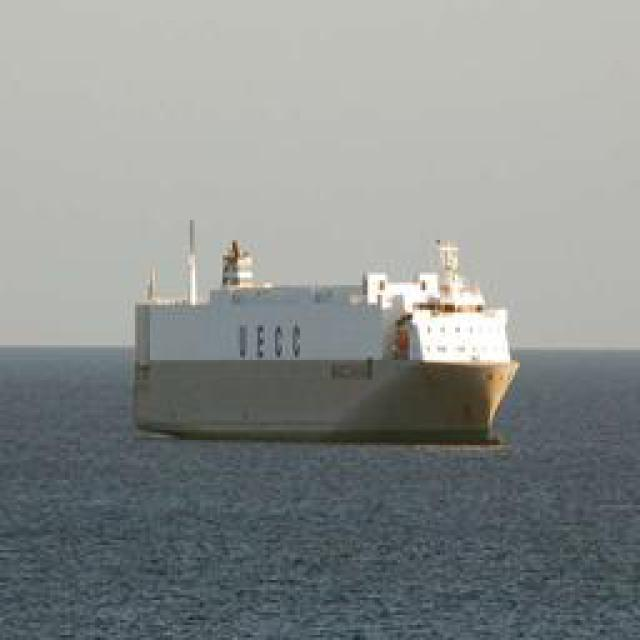Ship: (129, 229, 524, 442)
